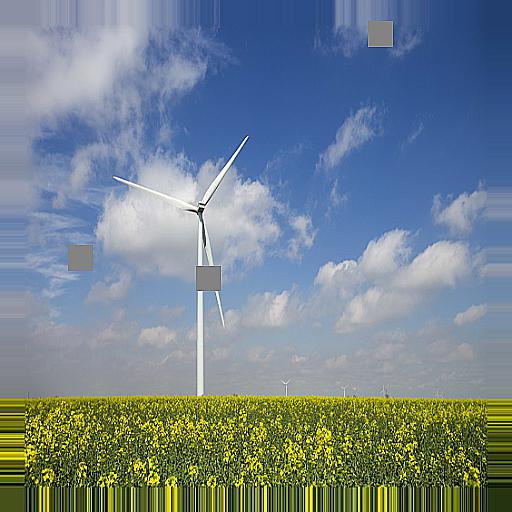wind turbine: (110, 133, 250, 391)
